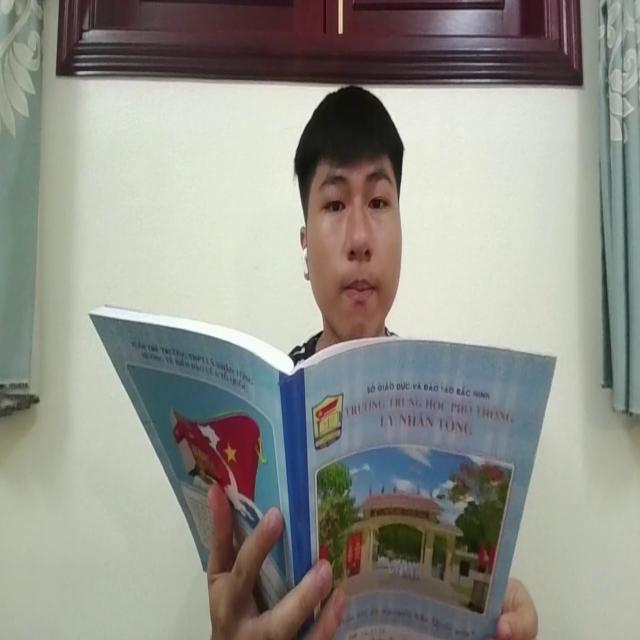book: (84, 289, 550, 640)
student: (287, 84, 413, 344)
